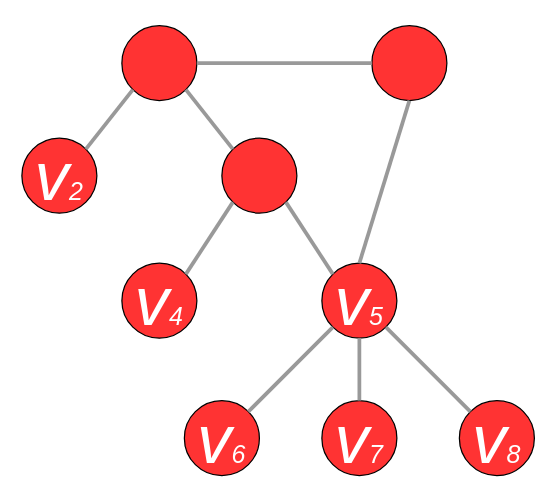
Some shapes in this 556 by 501 pixel diagram are drawn without their labels. The shapes that lost their labels are listed below. From the top down, each one's box as (x1, y1, x2, y2) in pixels, then its label:
(121, 24, 197, 101): v 1
(371, 24, 447, 101): v 9
(221, 137, 297, 213): v 3
